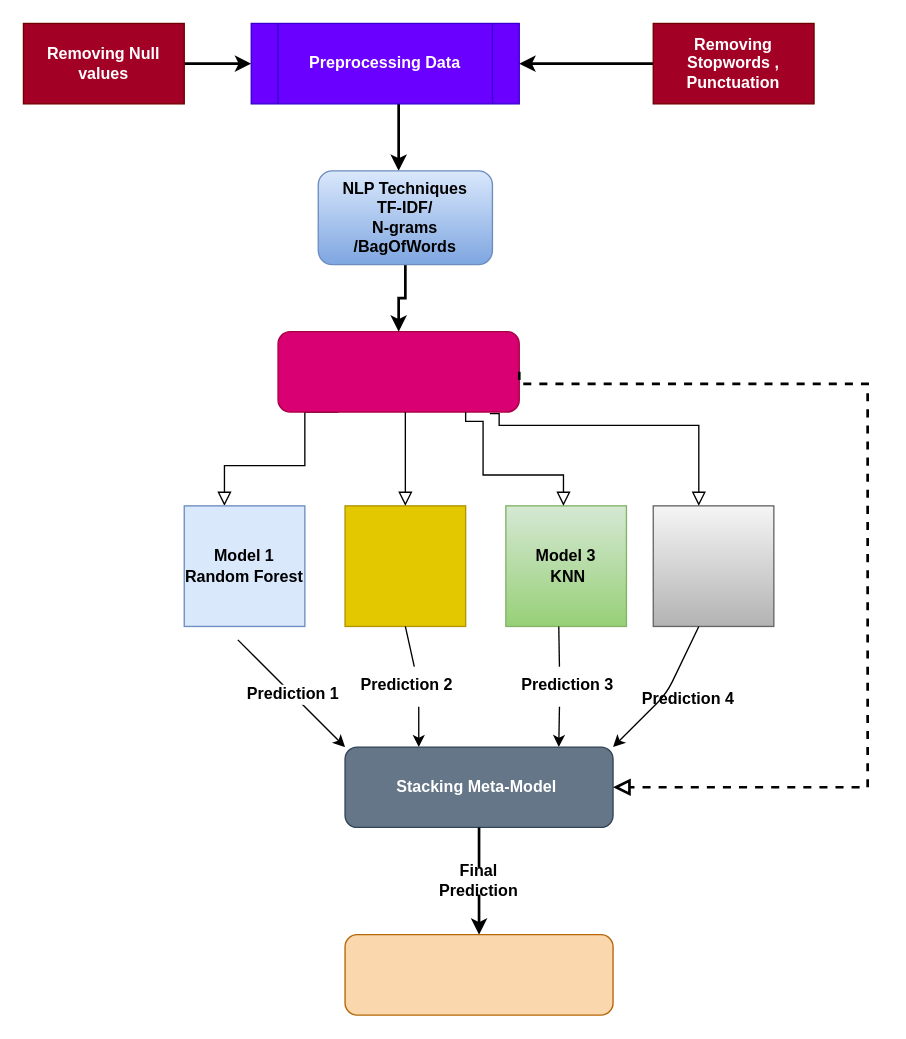
This 906x1039 diagram has some shape labels left out. Each missing label, with the centre of its shape:
Features/DataSet: pixel 398 371
Model 2 Logistic Regression: pixel 405 565
Model 4 Support Vector Machine: pixel 713 565
Output Sentiment class Predicted: pixel 478 974
